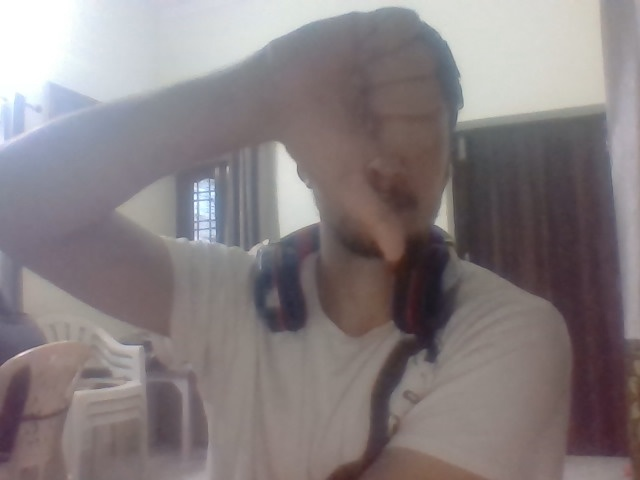ThumbsDown: (271, 7, 442, 265)
